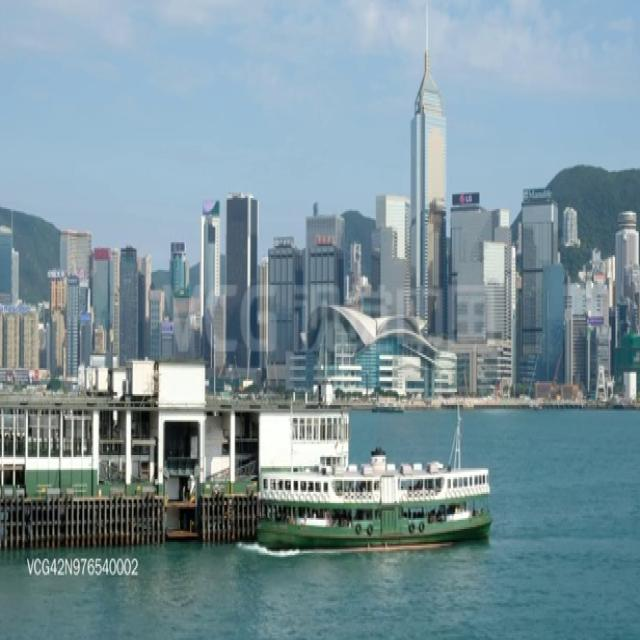passenger ship: (250, 448, 489, 549)
